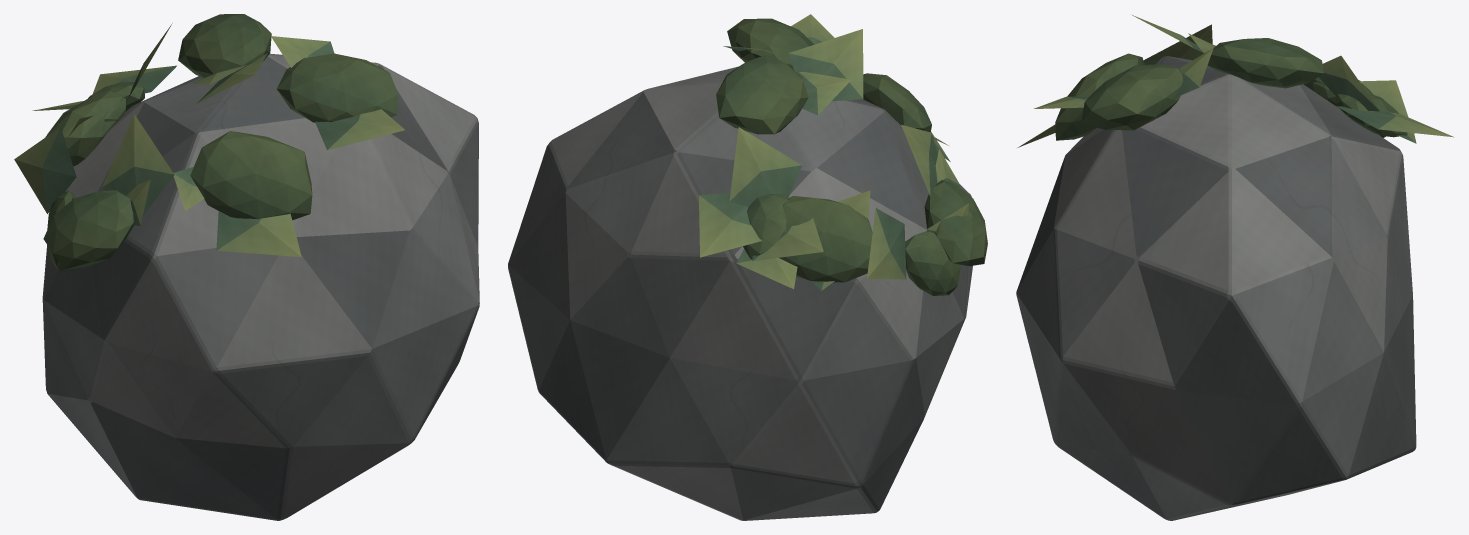
The model's file is forest_boulder.glb.
The picture shows the model from 3 angles, left to right: view 1: azimuth 30°, elevation 25°; view 2: azimuth 150°, elevation 25°; view 3: azimuth 270°, elevation 25°; orthographic projection. The views are drawn at different scales.
Visible parts, largest first — view 1: Angular mossy forest boulder, Woodland shared moss cushion.007, Woodland shared moss cushion.006, Woodland shared moss cushion.002, Woodland shared moss cushion.001, Woodland shared curved ivy leaf.003, Woodland shared curved ivy leaf.014, Woodland shared curved ivy leaf.005, Woodland shared moss cushion.008, Woodland shared curved ivy leaf.011, Woodland shared curved ivy leaf.012, Woodland shared curved ivy leaf.010 (+4 smaller); view 2: Angular mossy forest boulder, Woodland shared moss cushion.008, Woodland shared moss cushion.001, Woodland shared moss cushion.002, Woodland shared curved ivy leaf.007, Woodland shared curved ivy leaf.001, Woodland shared curved ivy leaf.010, Woodland shared moss cushion.006, Woodland shared moss cushion.003, Woodland shared curved ivy leaf.005, Woodland shared moss cushion.007, Woodland shared moss cushion.005 (+5 smaller); view 3: Angular mossy forest boulder, Woodland shared moss cushion.006, Woodland shared moss cushion.001, Woodland shared moss cushion.007, Woodland shared curved ivy leaf.007, Woodland shared curved ivy leaf.010, Woodland shared moss cushion.005, Woodland shared curved ivy leaf.003, Woodland shared curved ivy leaf.012, Woodland shared curved ivy leaf.009.
Part boxes in pixels (x1,y1,x2,y2): Angular mossy forest boulder: (42,53,479,520); Woodland shared moss cushion.007: (190,131,312,220); Woodland shared moss cushion.006: (277,53,398,122); Woodland shared moss cushion.002: (43,190,133,269); Woodland shared moss cushion.001: (178,14,271,77); Woodland shared curved ivy leaf.003: (102,114,174,215); Woodland shared curved ivy leaf.014: (216,211,301,256); Woodland shared curved ivy leaf.005: (14,127,76,213); Woodland shared moss cushion.008: (46,90,122,166); Woodland shared curved ivy leaf.011: (315,109,404,150); Woodland shared curved ivy leaf.012: (271,36,334,67); Woodland shared curved ivy leaf.010: (93,65,176,93); Angular mossy forest boulder: (508,66,972,520); Woodland shared moss cushion.008: (779,196,872,282); Woodland shared moss cushion.001: (716,55,808,134); Woodland shared moss cushion.002: (924,180,987,266); Woodland shared curved ivy leaf.007: (729,127,801,206); Woodland shared curved ivy leaf.001: (788,29,863,101); Woodland shared curved ivy leaf.010: (699,193,761,257); Woodland shared moss cushion.006: (727,18,813,69); Woodland shared moss cushion.003: (905,231,960,295); Woodland shared curved ivy leaf.005: (867,208,906,279); Woodland shared moss cushion.007: (863,73,931,132); Woodland shared moss cushion.005: (743,194,788,259); Angular mossy forest boulder: (1016,56,1416,520); Woodland shared moss cushion.006: (1081,64,1182,130); Woodland shared moss cushion.001: (1207,38,1323,88); Woodland shared moss cushion.007: (1055,53,1144,140); Woodland shared curved ivy leaf.007: (1319,55,1379,111); Woodland shared curved ivy leaf.010: (1337,106,1453,137); Woodland shared moss cushion.005: (1335,93,1407,137); Woodland shared curved ivy leaf.003: (1143,24,1212,64); Woodland shared curved ivy leaf.012: (1174,48,1213,97); Woodland shared curved ivy leaf.009: (1359,80,1408,116).
Size of the model in its own units: 1.08 by 1.07 by 0.9189.
Materials: 6 (6 with a texture image).
